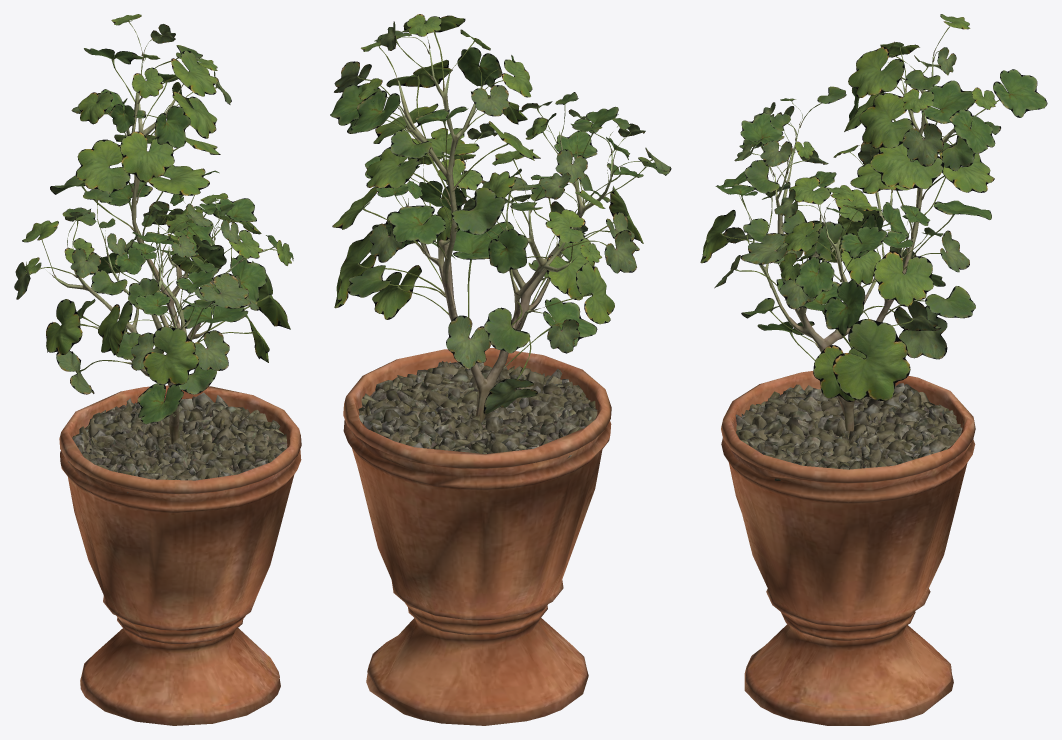
Rendered from potted-plant.glb.
3 views of the same model, side by side, from view 1: azimuth 30°, elevation 25°; view 2: azimuth 150°, elevation 25°; view 3: azimuth 270°, elevation 25° (orthographic). The views are drawn at different scales.
Parts seen in each view (by area): view 1: potted_plant_01_pot, potted_plant_01_leaves, potted_plant_01_pebbles, potted_plant_01_stem; view 2: potted_plant_01_pot, potted_plant_01_leaves, potted_plant_01_pebbles, potted_plant_01_stem; view 3: potted_plant_01_pot, potted_plant_01_leaves, potted_plant_01_pebbles, potted_plant_01_stem.
Boxes of the visible parts, left/top/right/bottom form: potted_plant_01_pot: left=59, top=385, right=301, bottom=725; potted_plant_01_leaves: left=14, top=14, right=293, bottom=424; potted_plant_01_pebbles: left=68, top=392, right=287, bottom=493; potted_plant_01_stem: left=54, top=54, right=244, bottom=444; potted_plant_01_pot: left=343, top=348, right=611, bottom=725; potted_plant_01_leaves: left=330, top=14, right=671, bottom=414; potted_plant_01_pebbles: left=358, top=361, right=597, bottom=458; potted_plant_01_stem: left=398, top=48, right=612, bottom=422; potted_plant_01_pot: left=721, top=371, right=975, bottom=725; potted_plant_01_leaves: left=700, top=14, right=1047, bottom=401; potted_plant_01_pebbles: left=735, top=383, right=962, bottom=480; potted_plant_01_stem: left=753, top=55, right=966, bottom=433.
Bounding box in the file's own units: 0.5874 × 1.34 × 0.6336.
2 materials, 2 textured.
